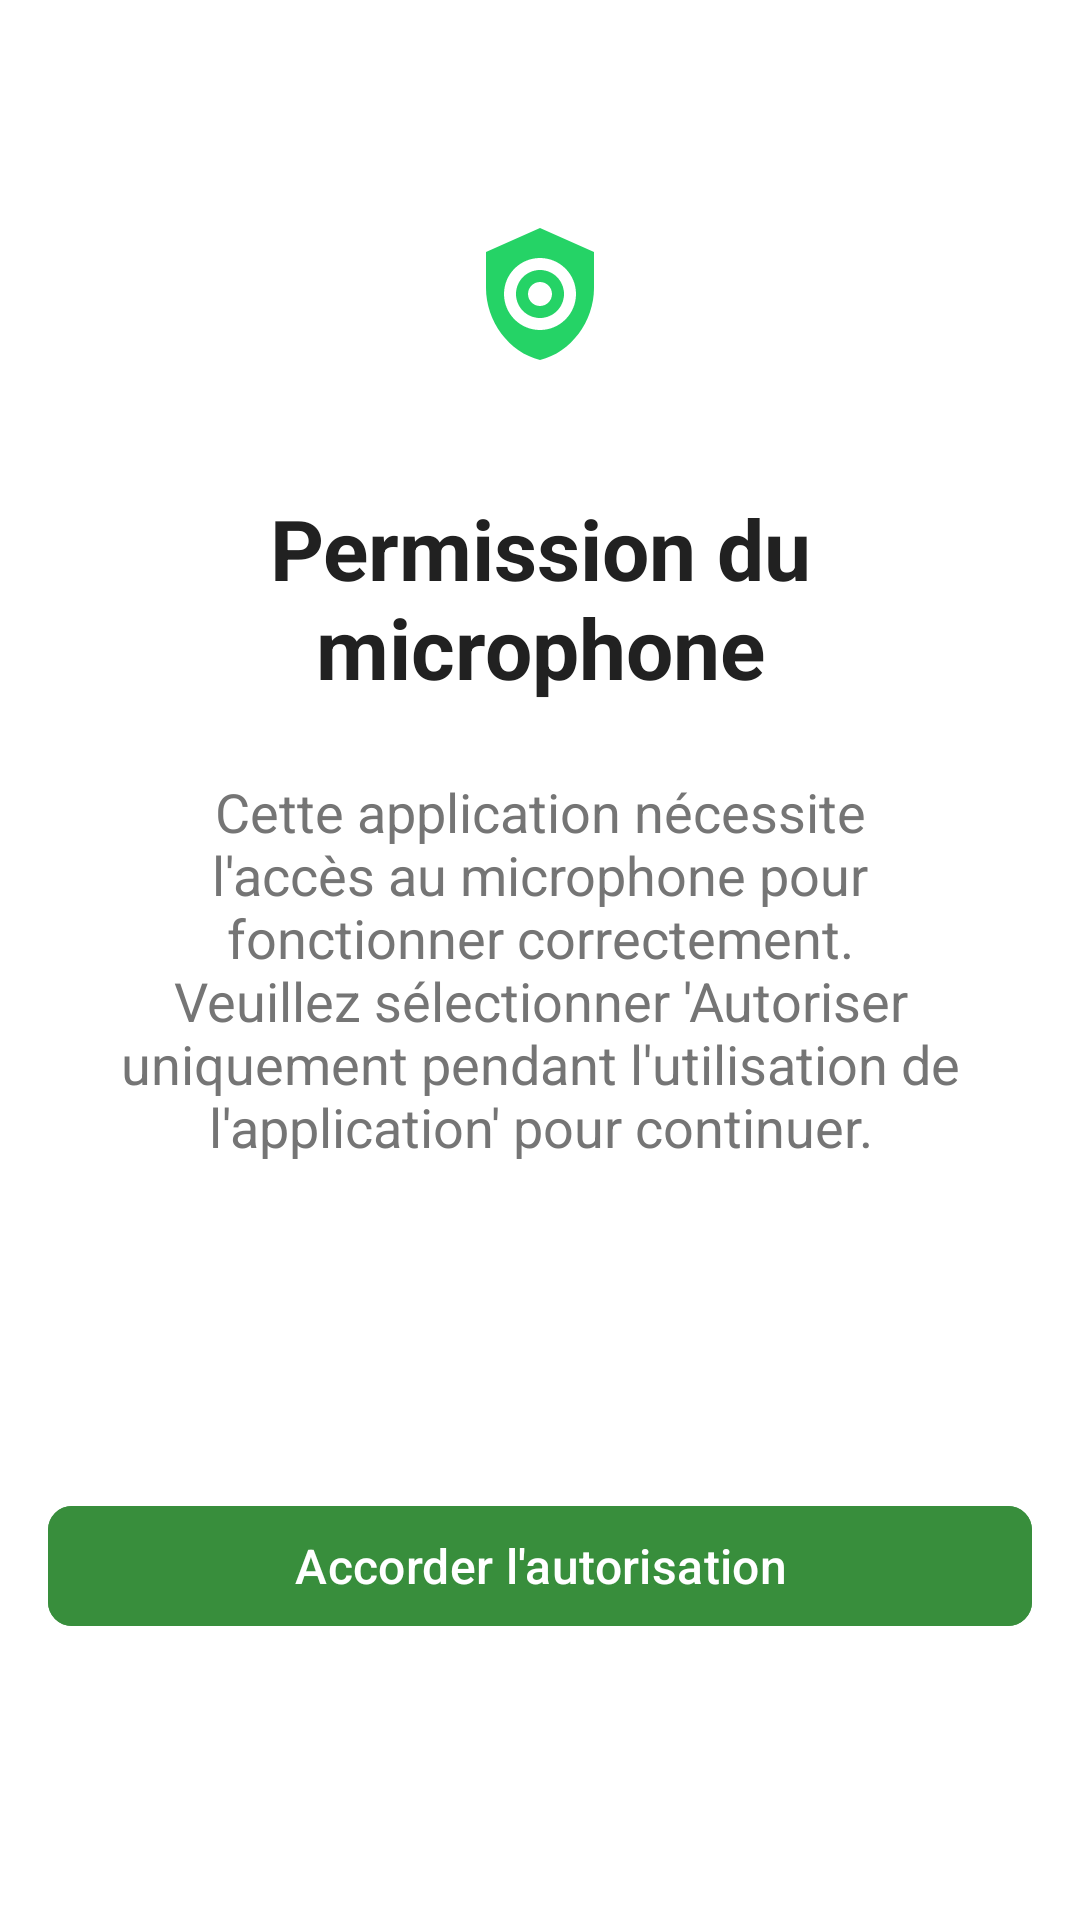

Icon bounding boxes for this 1080 x 1920 phone screenshot, format (x1, y1, x2, y2):
icône de l'application: (486, 228, 594, 360)
